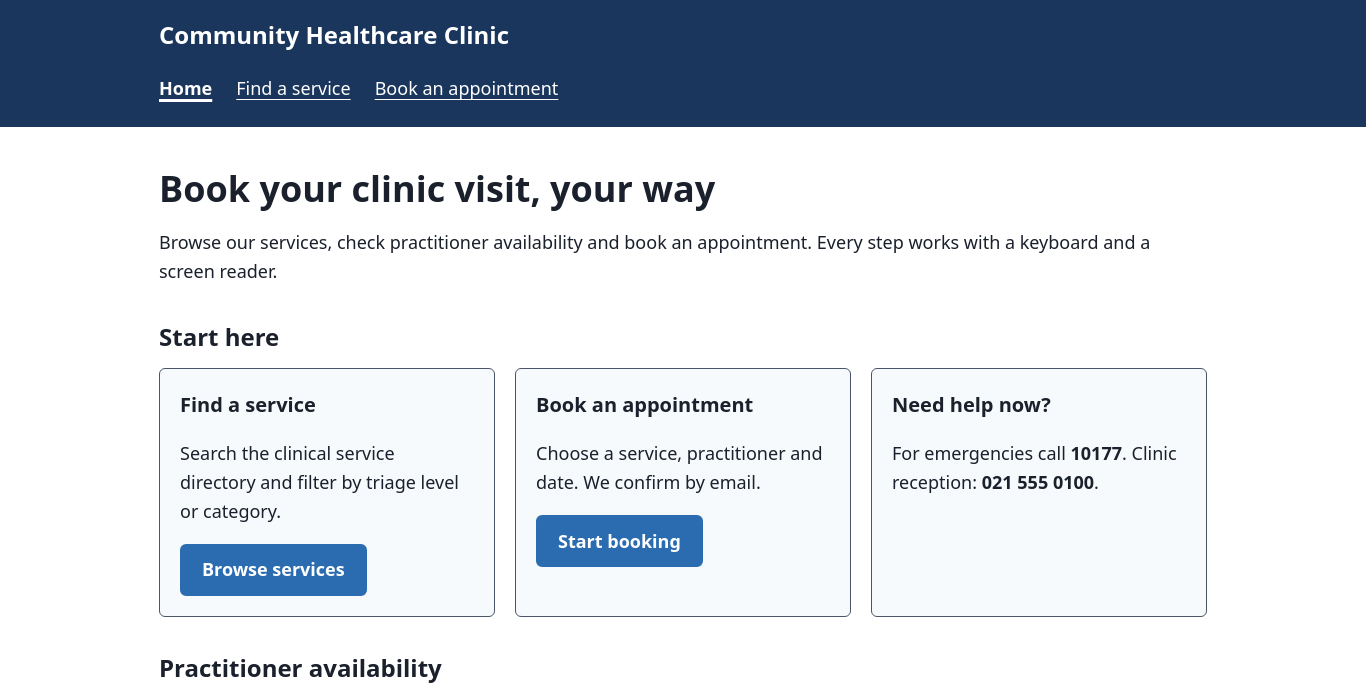
it: Filterable resource listing with ARIA state › announces the result count in a polite live region
Click the button "Find a service" at (293, 89), box [236, 66, 351, 111]
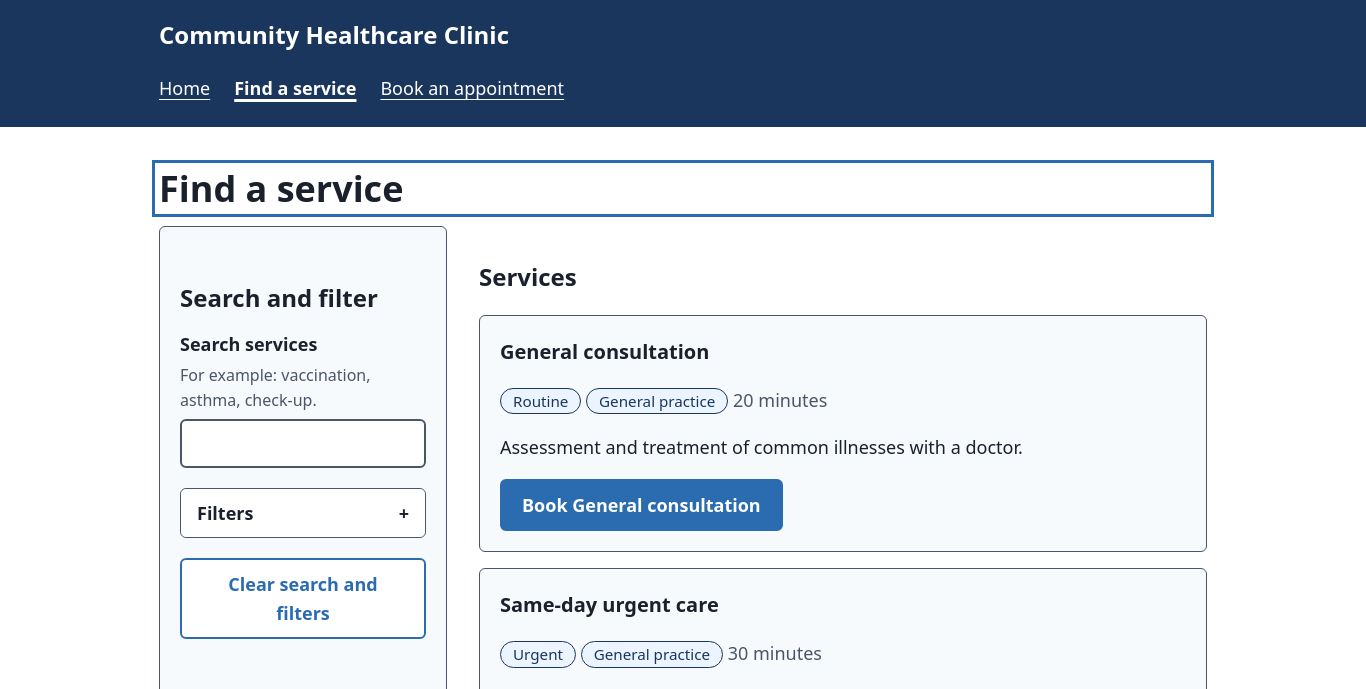
Type "vaccin" into the search field labelled "Search services" at (303, 444), box [180, 419, 426, 468]
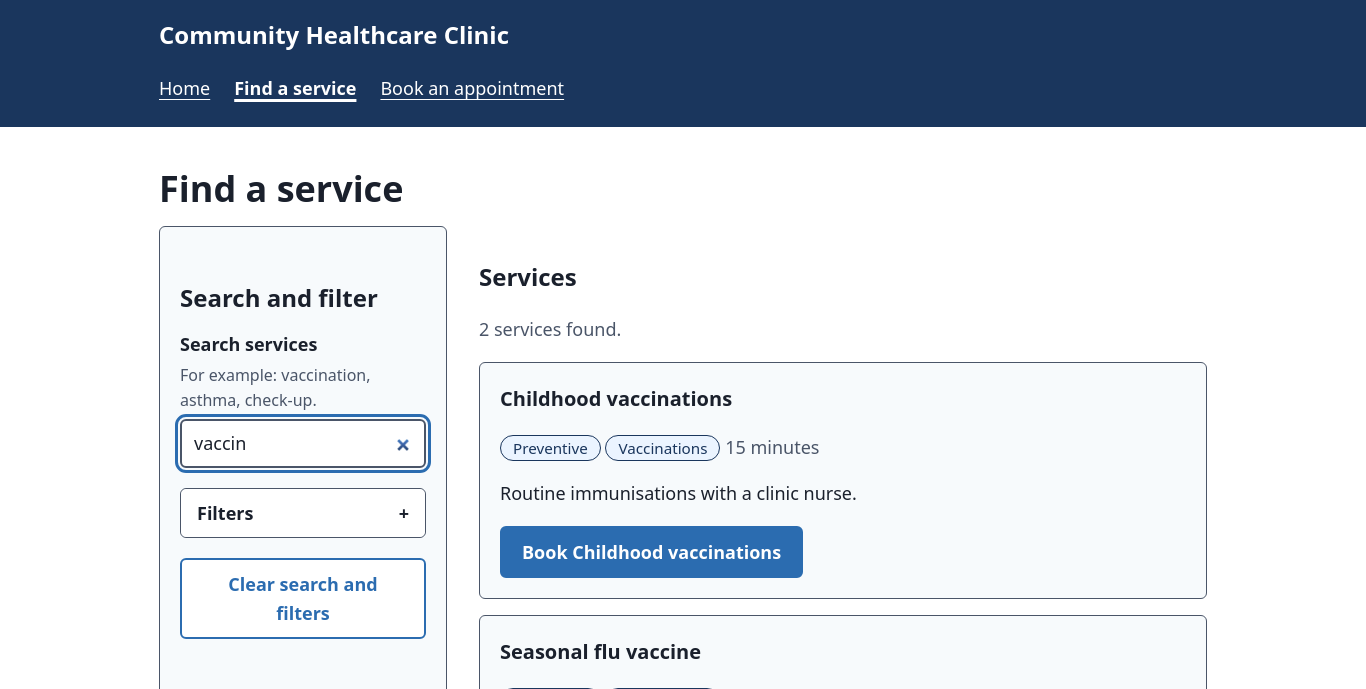
Result: the message with test id "results-status" reads "2 services found." at [479, 317, 621, 341]
